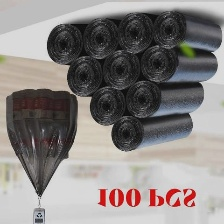plastic_bag: (0, 86, 81, 200), (108, 112, 197, 157), (136, 45, 220, 87), (124, 78, 205, 118), (153, 11, 224, 54), (43, 21, 92, 69), (115, 9, 158, 58), (98, 46, 143, 91), (86, 81, 128, 129), (79, 14, 119, 62), (65, 54, 105, 99)
